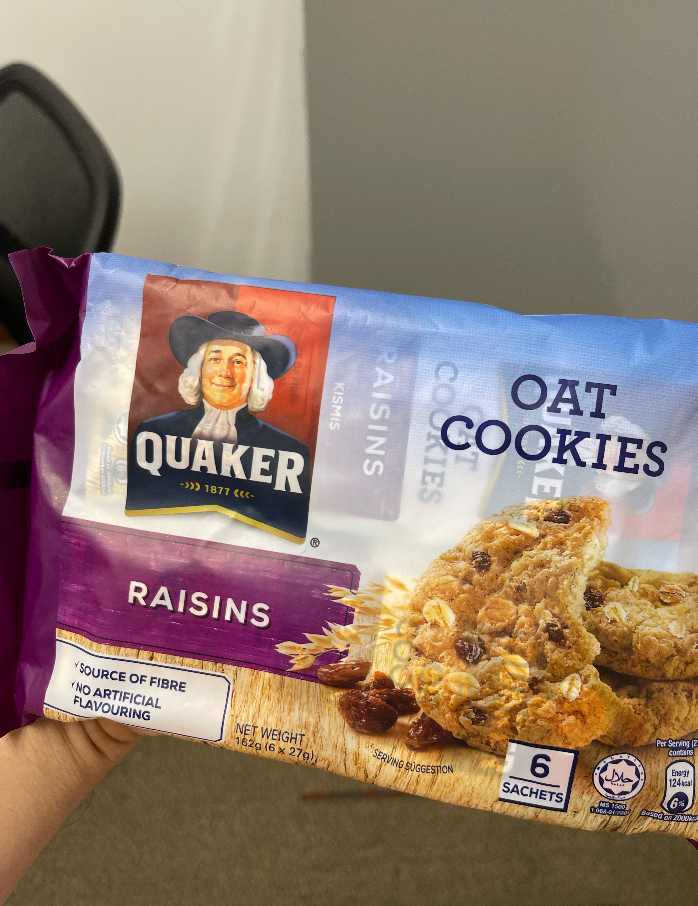cookies_100g-199g: (67, 280, 668, 816)
